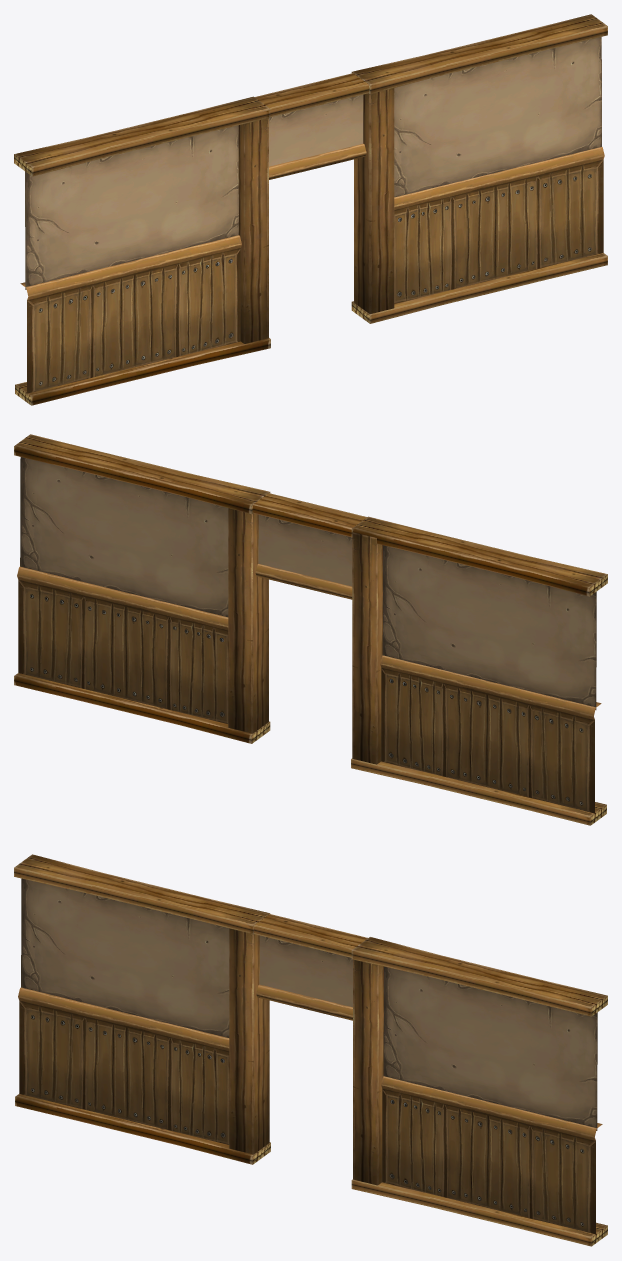
Rendered from SM_wall_02.gltf.
The picture shows the model from 3 angles, top to bottom: view 1: azimuth 30°, elevation 25°; view 2: azimuth 150°, elevation 25°; view 3: azimuth 330°, elevation 25°; orthographic projection.
Visible parts, largest first — view 1: SM_wall_02; view 2: SM_wall_02; view 3: SM_wall_02.
Boxes of the visible parts, left/top/right/bottom form: SM_wall_02: left=14, top=14, right=607, bottom=405; SM_wall_02: left=14, top=434, right=607, bottom=825; SM_wall_02: left=14, top=854, right=607, bottom=1246.
Size of the model in its own units: 4.91 by 1.94 by 0.2704.
Materials: 1 (1 with a texture image).
